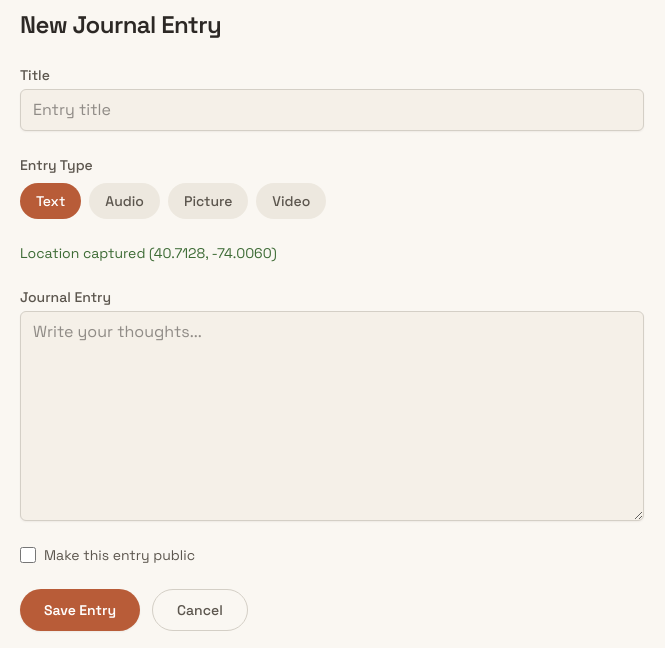
Scenario: NewEntryPage › shows error when no media selected for picture
The image size is (665, 648).
Type "My Photo" into the field labelled "Title" at (332,110), box [20,89,644,131]
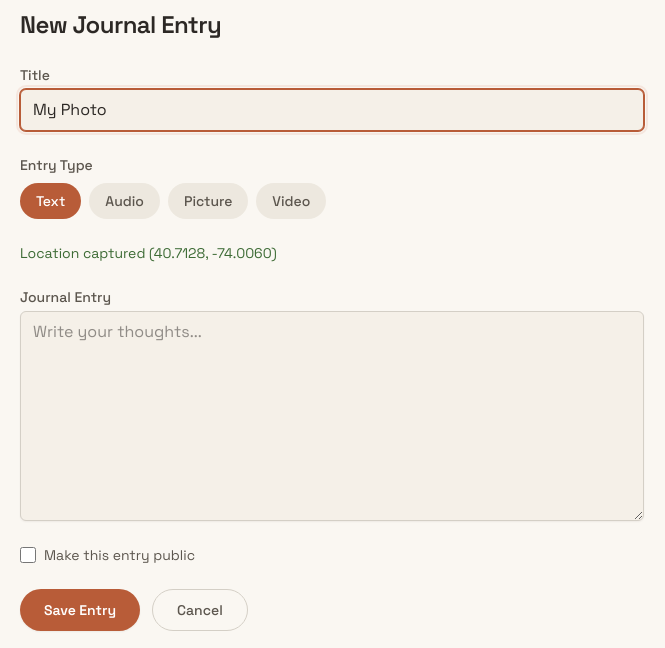
Click the button "Picture" at (208,201), box [168,183,248,219]
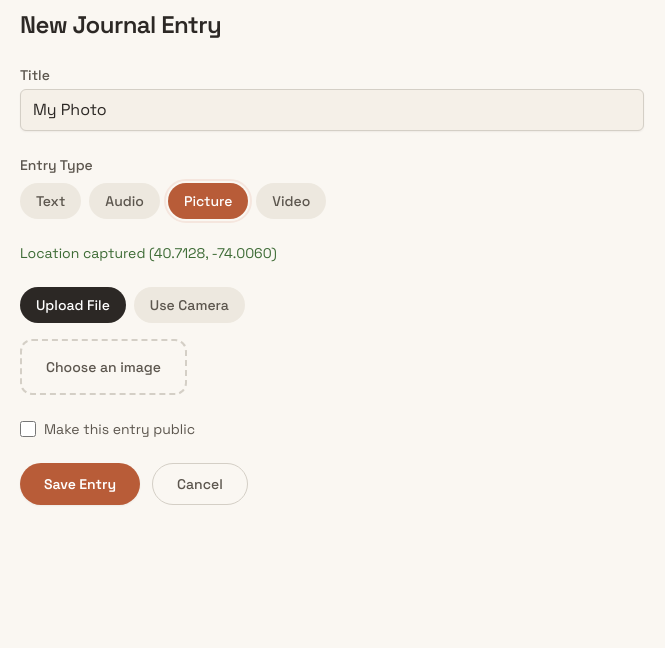
Click the button "Save Entry" at (80,484), box [20,463,140,505]
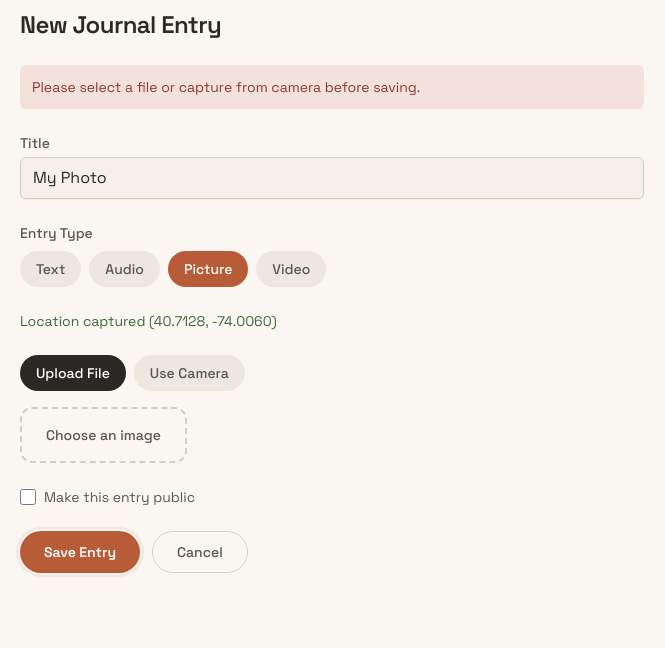
Expected: the text "Please select a file or capture from camera before saving." is shown, [20,65,644,109]
